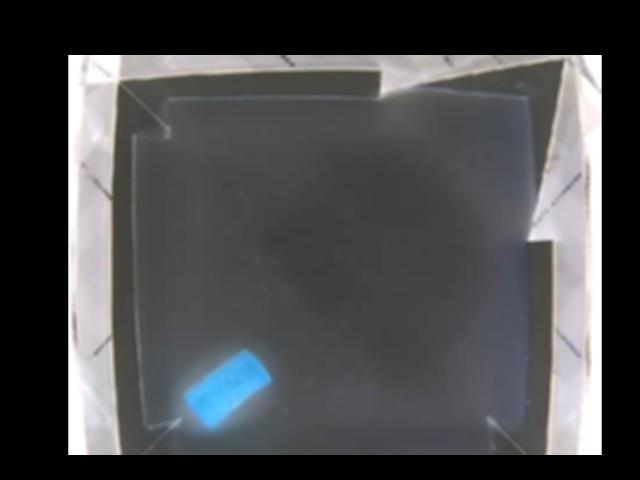Carrot: (184, 348, 269, 430)
